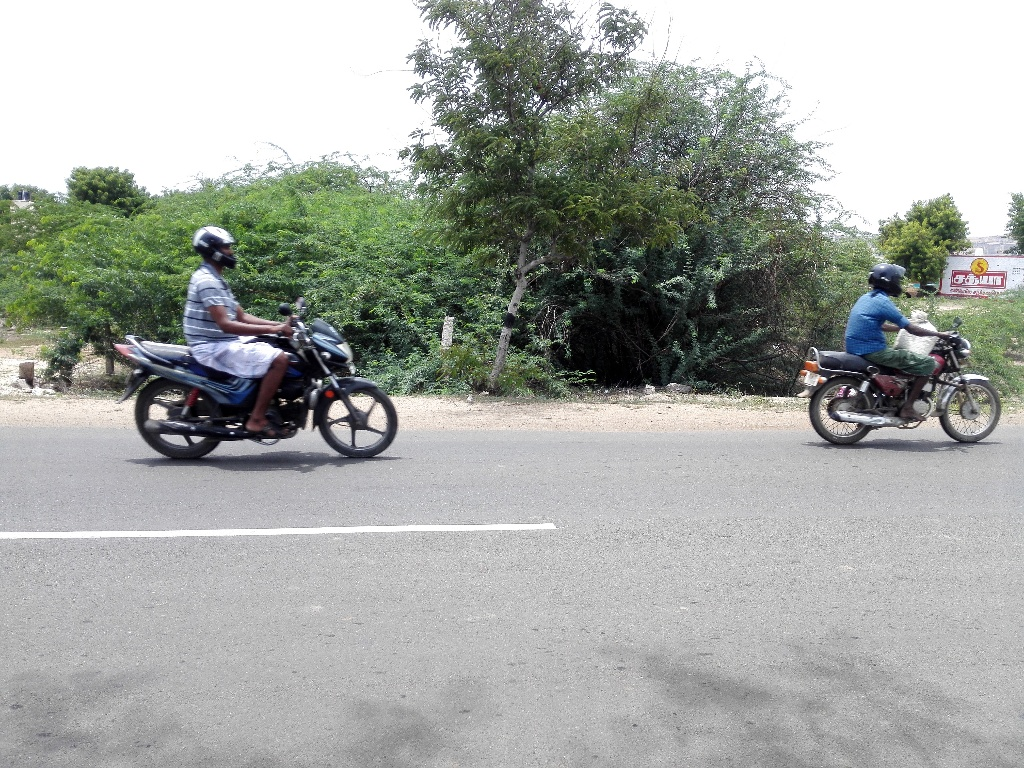biker: (91, 191, 420, 485), (787, 230, 1013, 465)
helmet: (181, 215, 248, 277), (862, 251, 915, 300)
